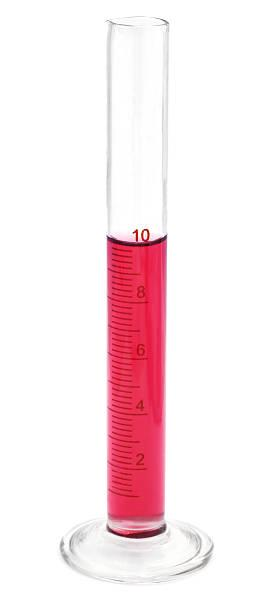Test tube: (71, 9, 218, 576)
